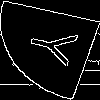Y: (25, 24, 90, 70)
